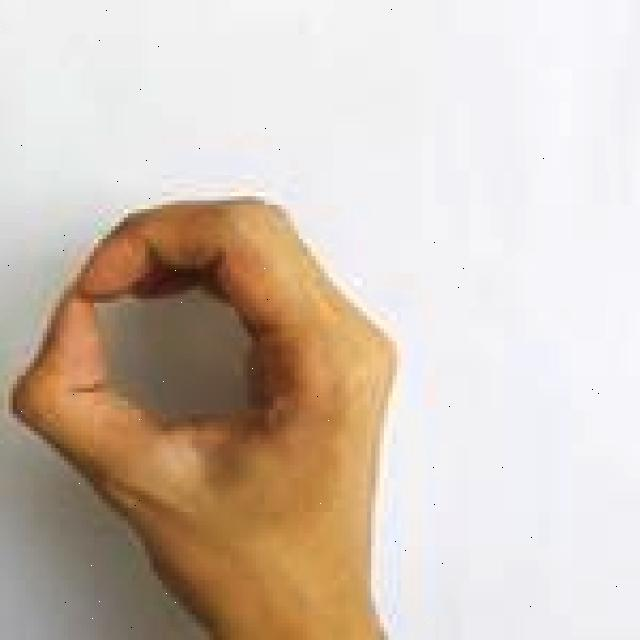O: (7, 189, 411, 640)
